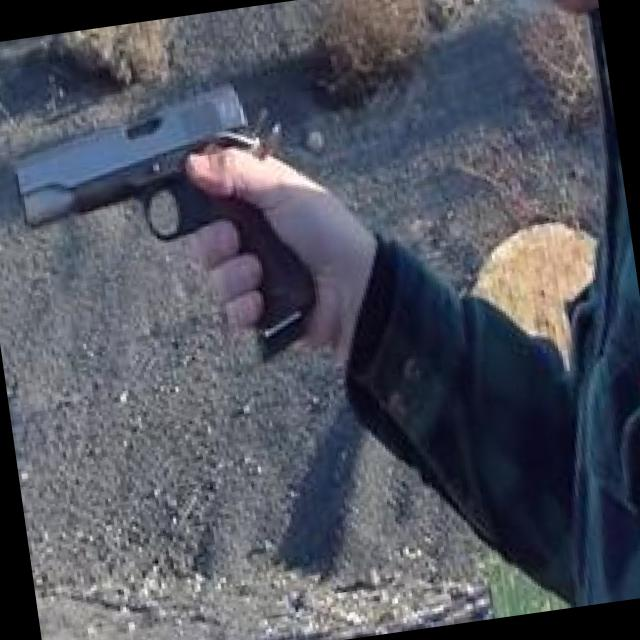Guns: (0, 46, 331, 381)
